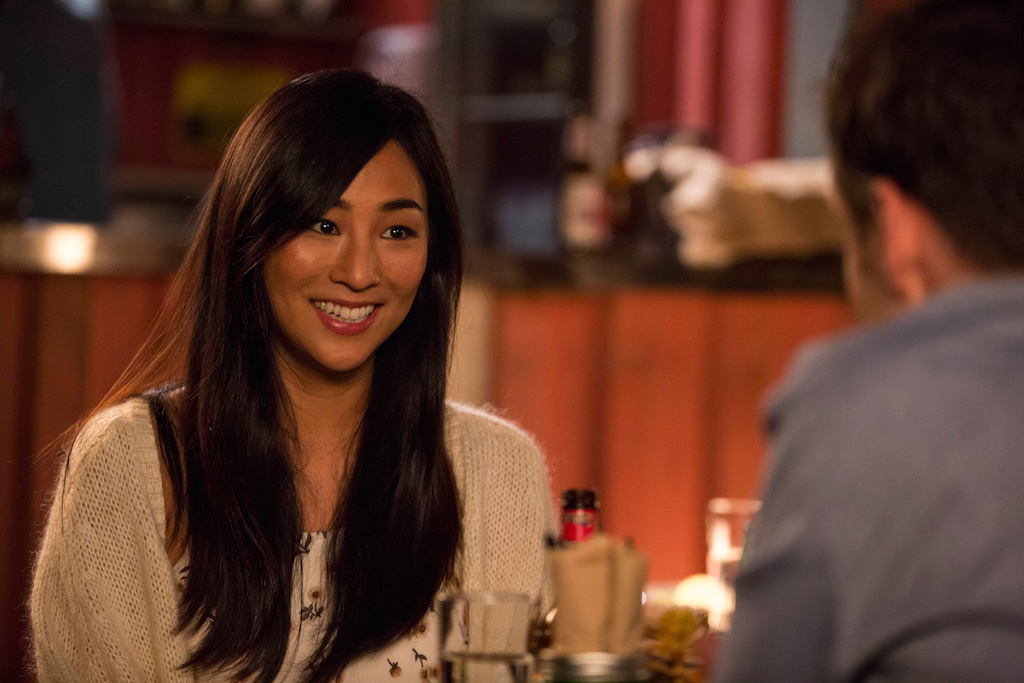person: (40, 68, 564, 659), (725, 3, 1024, 683)
